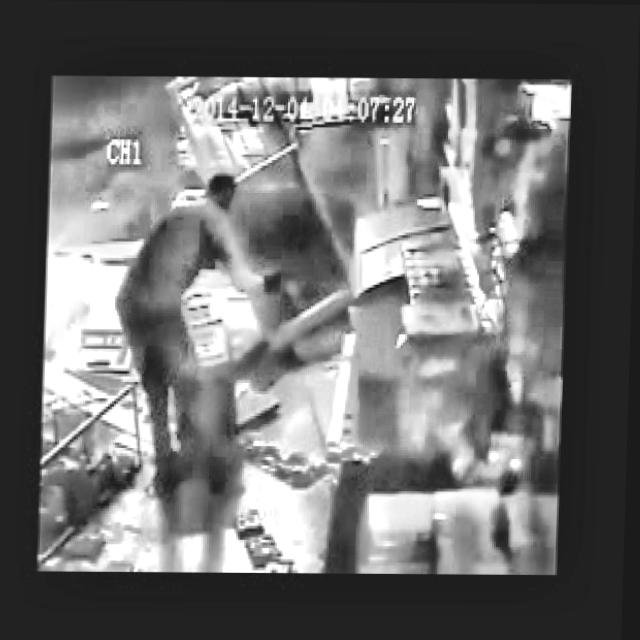burglary: (116, 167, 272, 500)
